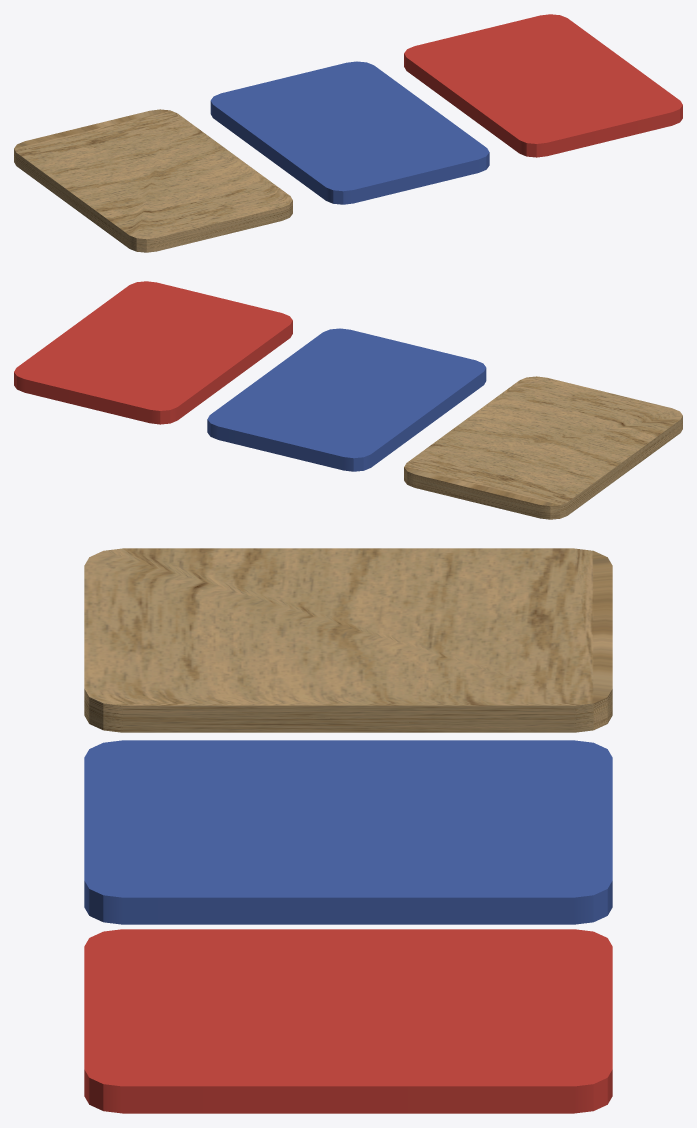
Rendered from plataformas.fbx.
The picture shows the model from 3 angles, top to bottom: view 1: azimuth 30°, elevation 25°; view 2: azimuth 150°, elevation 25°; view 3: azimuth 270°, elevation 25°; orthographic projection. The views are drawn at different scales.
Visible parts, largest first — view 1: pCube99, pCube98, pCube100; view 2: pCube99, pCube98, pCube100; view 3: pCube98, pCube99, pCube100.
Part boxes in pixels (x1,y1,x2,y2): pCube99: [210, 61, 489, 204]; pCube98: [404, 14, 682, 157]; pCube100: [14, 109, 292, 252]; pCube99: [207, 328, 486, 471]; pCube98: [14, 281, 292, 424]; pCube100: [404, 376, 682, 519]; pCube98: [84, 929, 612, 1113]; pCube99: [84, 740, 612, 924]; pCube100: [84, 548, 612, 732].
Bounding box in the file's own units: 347 × 8.14 × 144.
3 materials, 1 textured.
